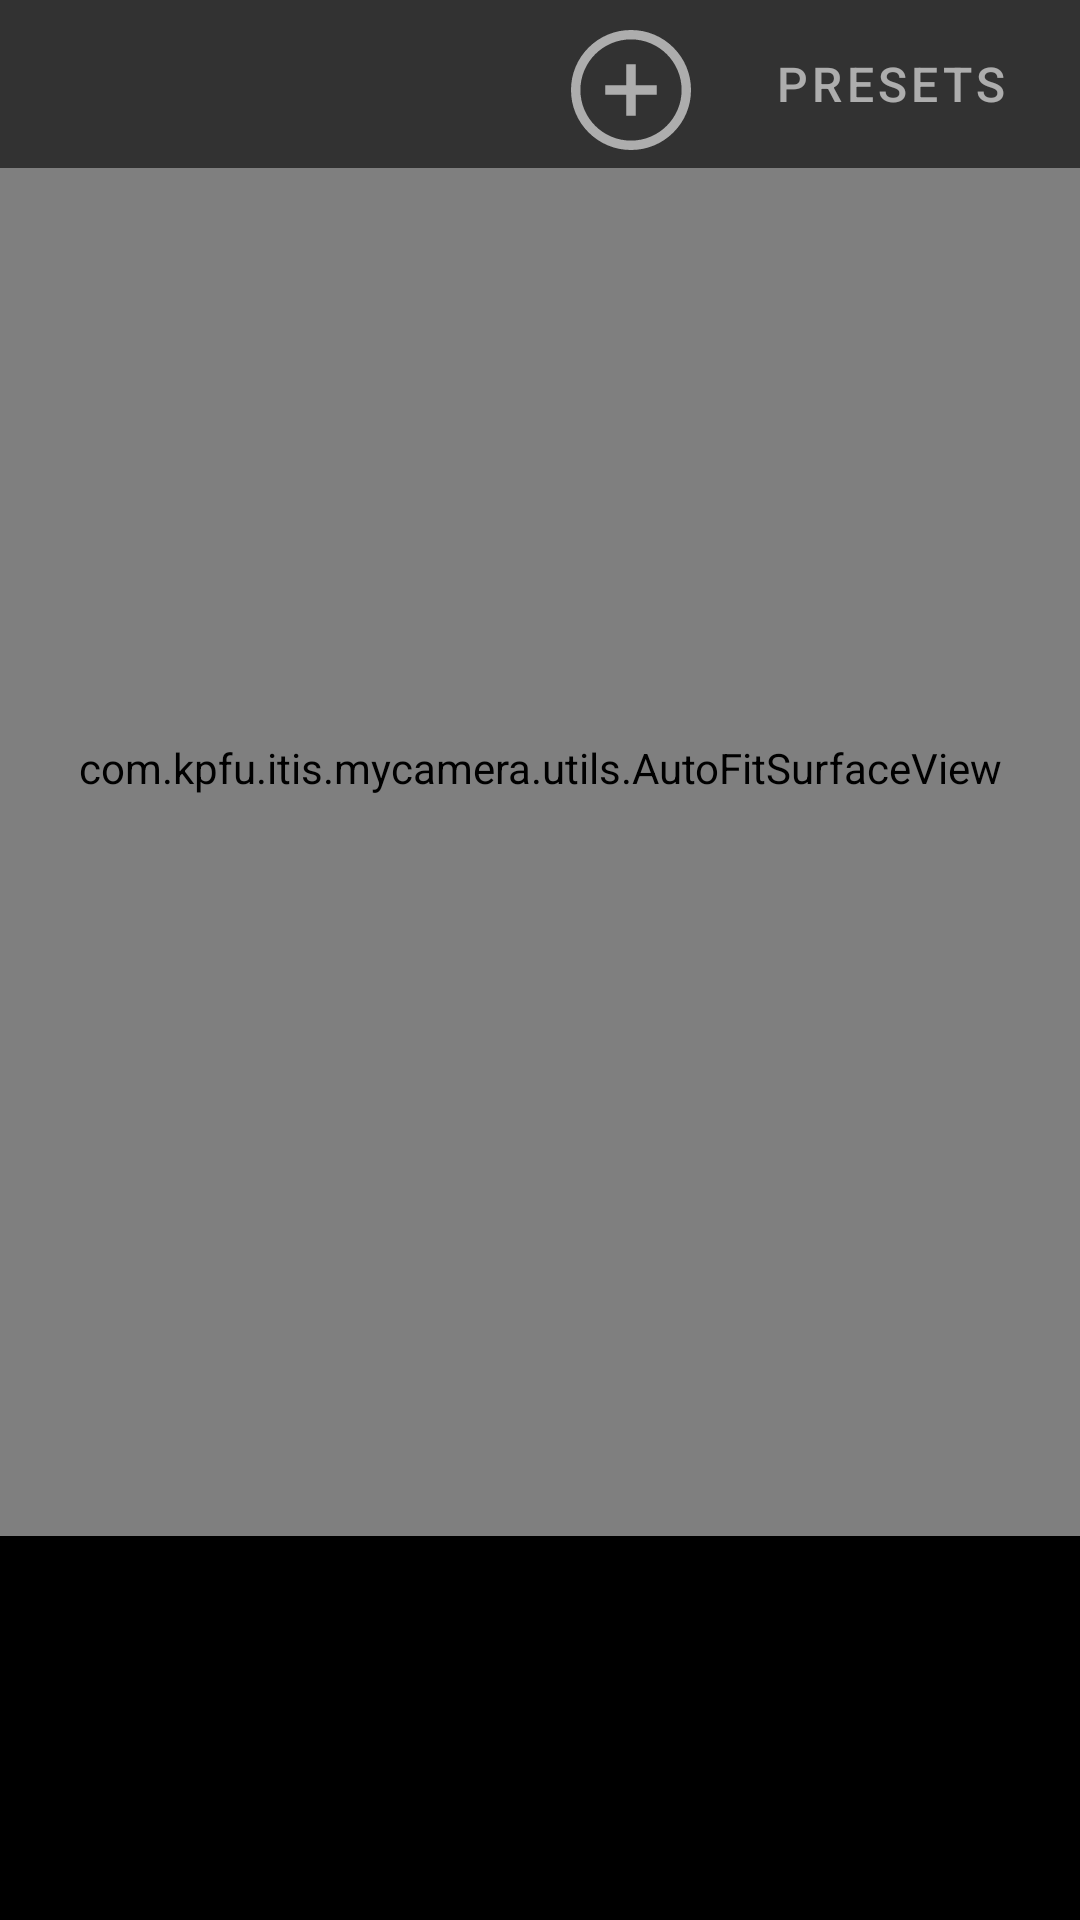

Icon click points for this 1080 × 1920 phone screenshot, format [x,y]:
plus: [631,90]
